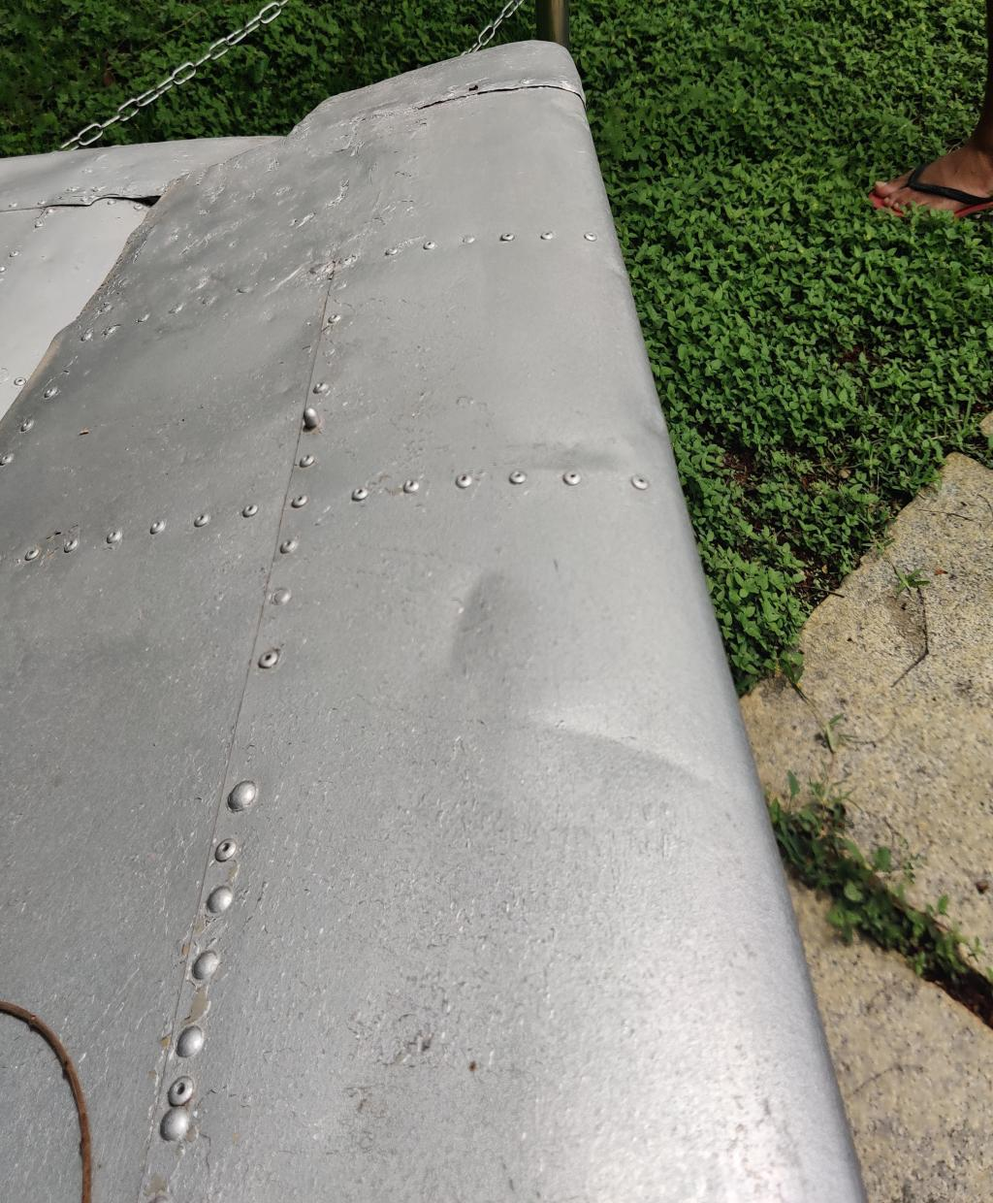dent: (496, 650, 748, 846), (404, 521, 549, 693)
